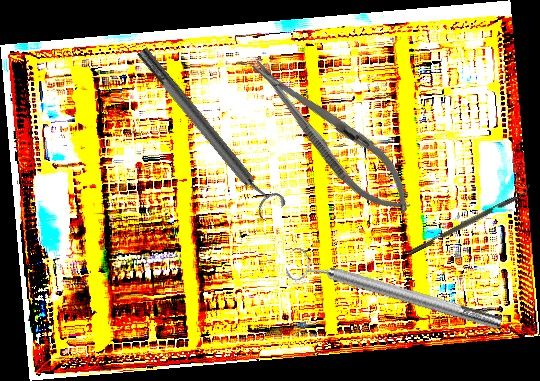Chopper: (405, 182, 534, 256)
Fixation Ring: (130, 39, 288, 224), (283, 243, 506, 343)
Needle Holder: (237, 44, 426, 228)
